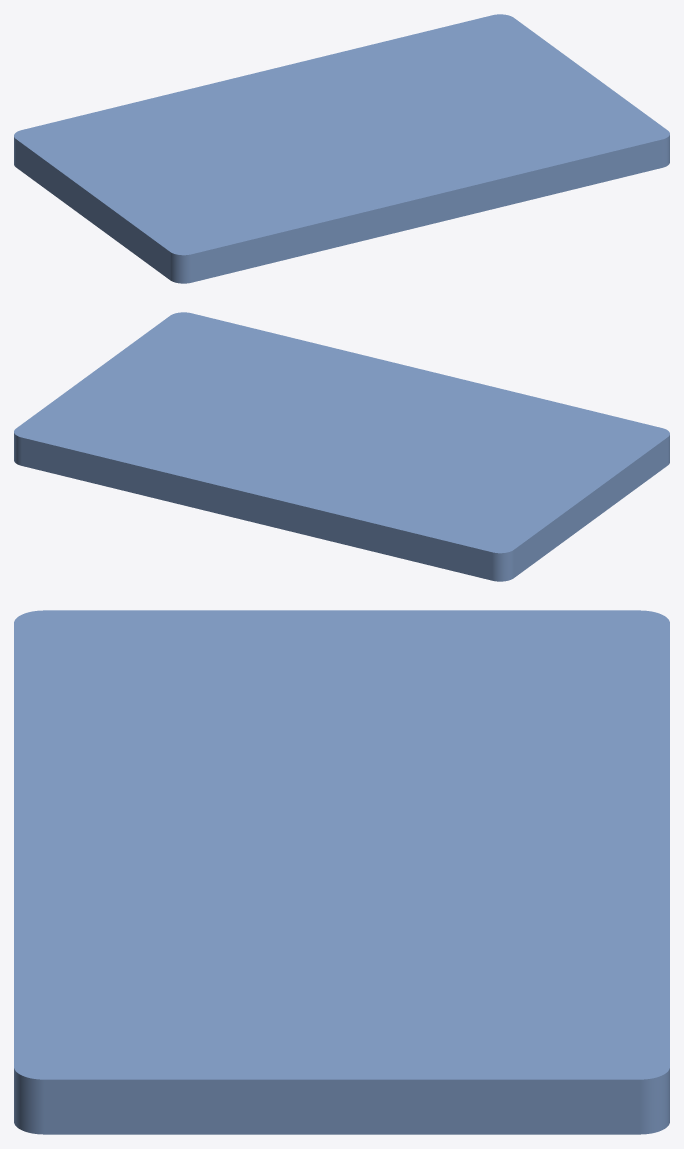
The model's file is step_02.glb.
The picture shows the model from 3 angles, top to bottom: view 1: azimuth 30°, elevation 25°; view 2: azimuth 150°, elevation 25°; view 3: azimuth 270°, elevation 25°; orthographic projection. The views are drawn at different scales.
Visible parts, largest first — view 1: part__body; view 2: part__body; view 3: part__body.
Part boxes in pixels (left/top/right/bottom): part__body: left=14, top=14, right=669, bottom=283; part__body: left=14, top=312, right=669, bottom=581; part__body: left=14, top=610, right=669, bottom=1134.
Size of the model in its own units: 220 by 12 by 130.
